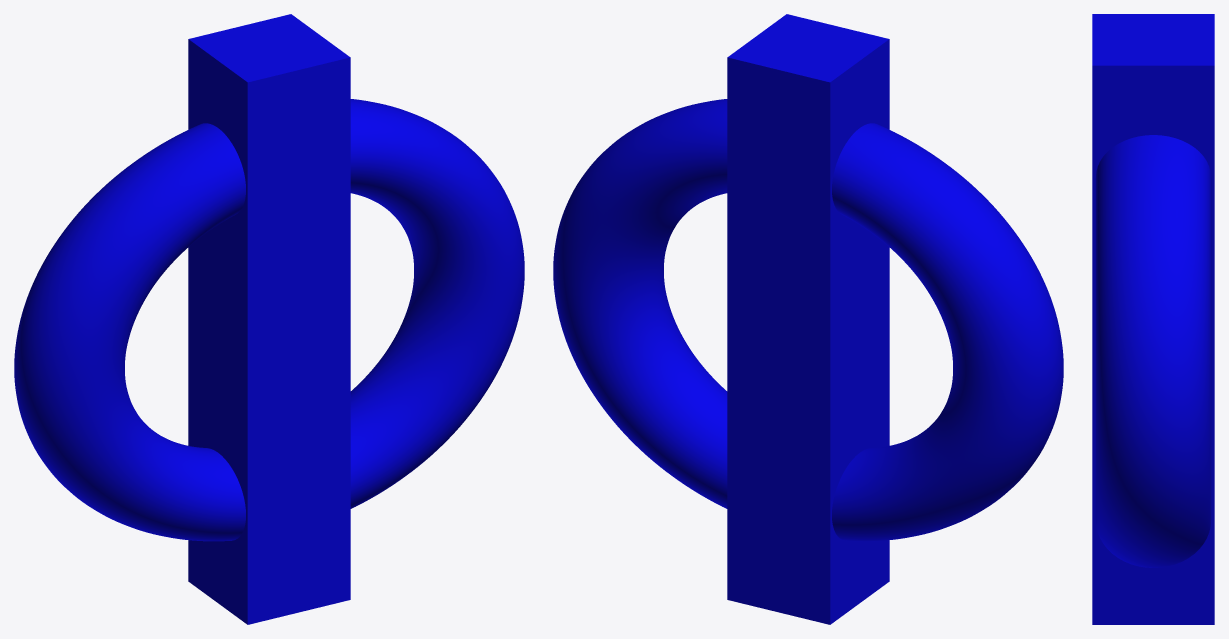
File: asset.glb
3 views of the same model, side by side, from view 1: azimuth 30°, elevation 25°; view 2: azimuth 150°, elevation 25°; view 3: azimuth 270°, elevation 25° (orthographic). The views are drawn at different scales.
Visible parts, largest first — view 1: Torus; view 2: Torus; view 3: Torus.
Part boxes in pixels (x1,y1,x2,y2): Torus: [14, 14, 524, 624]; Torus: [553, 14, 1063, 624]; Torus: [1092, 14, 1214, 624].
Size of the model in its own units: 6.81 by 7.13 by 1.41.
